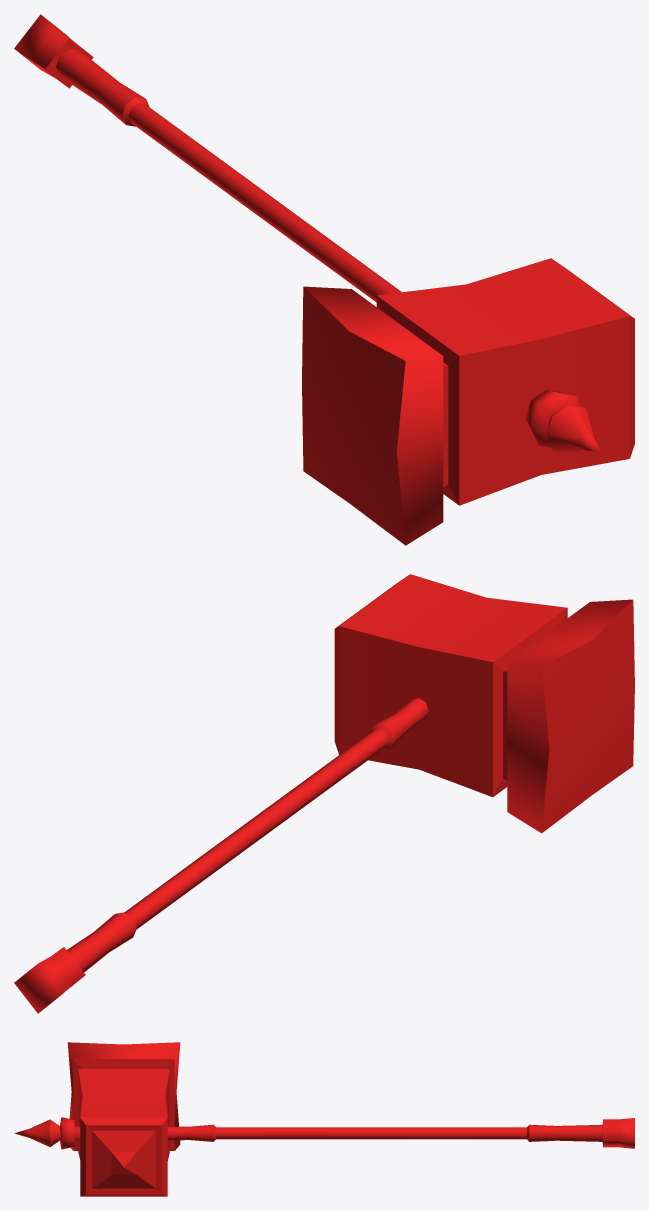
Rendered from hammerbull_wp001.fbx.
3 renders of one model, top to bottom at view 1: azimuth 30°, elevation 25°; view 2: azimuth 150°, elevation 25°; view 3: azimuth 270°, elevation 25°, orthographic. The views are drawn at different scales.
Parts seen in each view (by area): view 1: hammerbull_wp001; view 2: hammerbull_wp001; view 3: hammerbull_wp001.
Boxes of the visible parts, x1,y1,x2,y2 form: hammerbull_wp001: [14, 14, 634, 545]; hammerbull_wp001: [14, 574, 634, 1013]; hammerbull_wp001: [14, 1042, 634, 1196].
Bounding box in the file's own units: 64.21 × 40.06 × 220.
